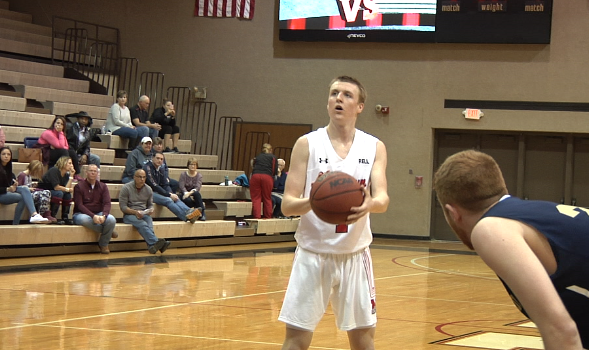ball: (309, 173, 366, 226)
player: (279, 75, 390, 350)
